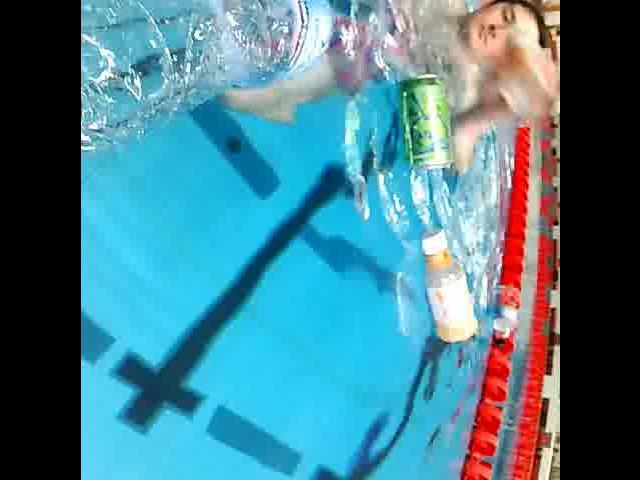Bottle: (80, 0, 364, 160), (412, 224, 482, 352)
Can: (398, 63, 460, 173)
